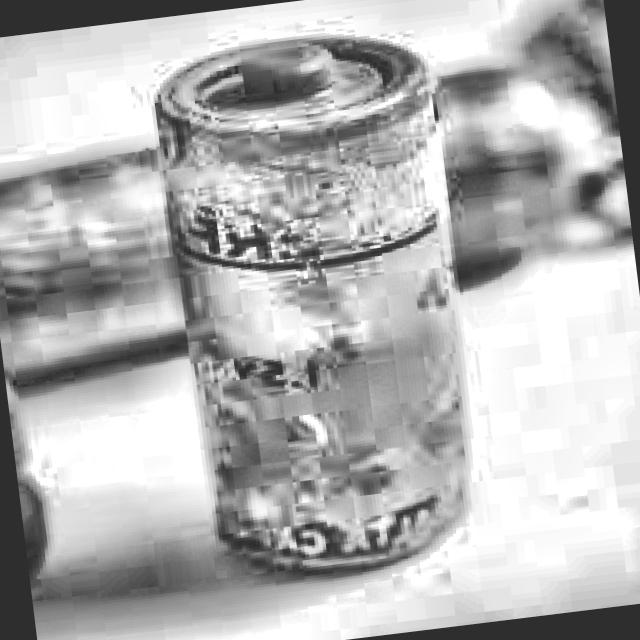Battery: (152, 26, 486, 598)
